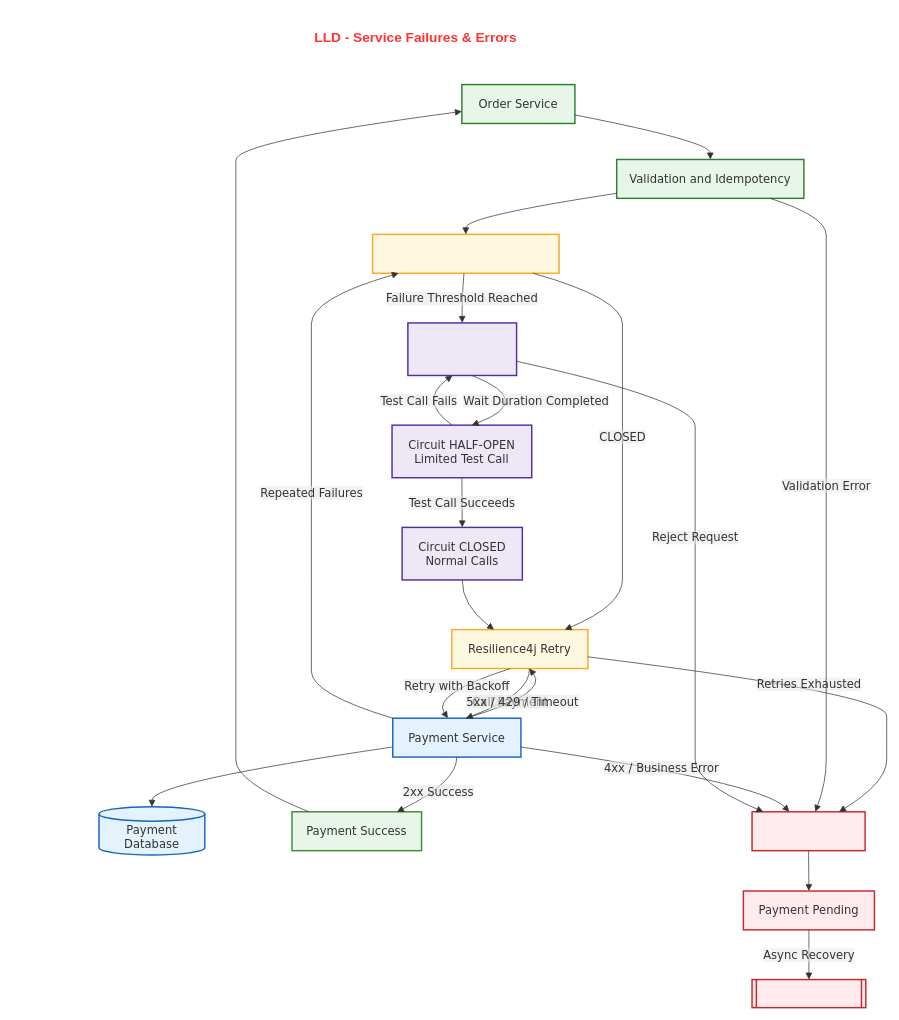
Some shapes in this 899 by 1020 pixel diagram are drawn without their labels. Here are the shapes that lost their labels. From the top down, the box of each, then its label:
(372, 233, 559, 274): Resilience4j Circuit Breaker
(407, 322, 517, 376): Circuit OPEN Fail Fast
(751, 811, 865, 851): Error Handler
(751, 978, 866, 1008): Retry Topic / DLQ
